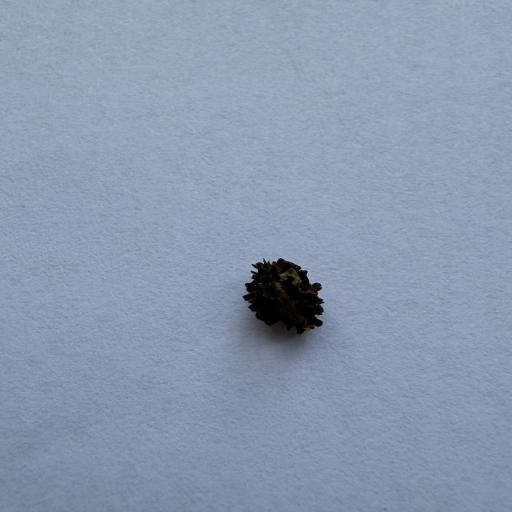papaya_seed: (230, 247, 348, 347)
